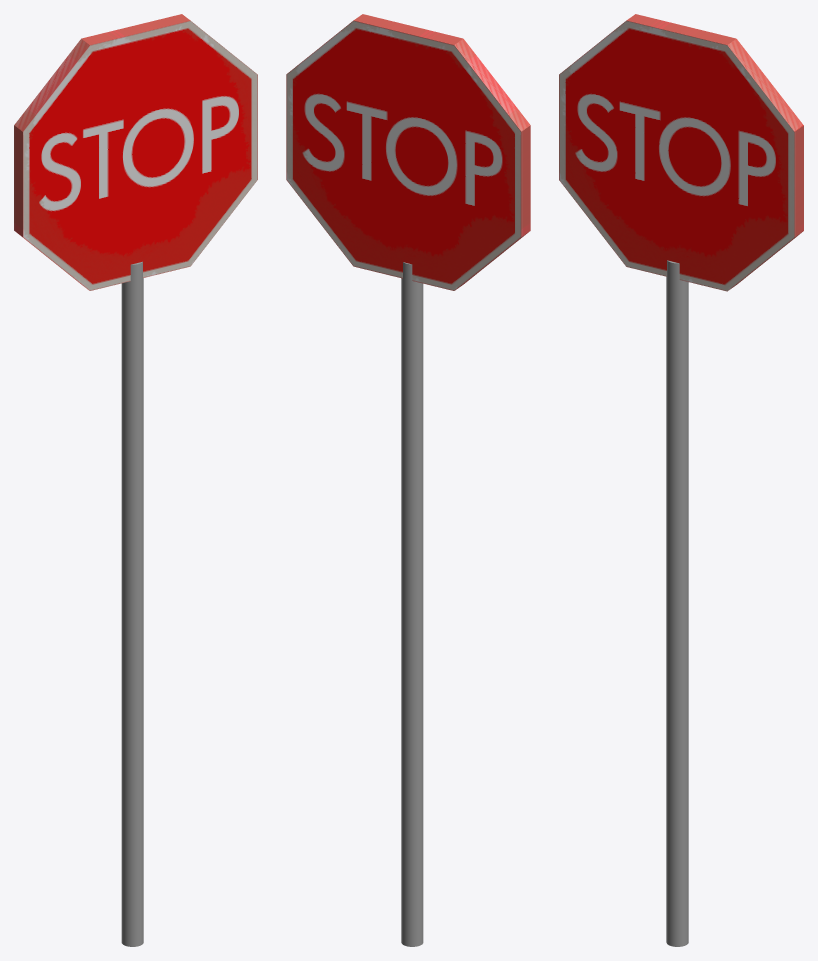
The model's file is stopsign.fbx.
3 views of the same model, side by side, from view 1: azimuth 30°, elevation 25°; view 2: azimuth 150°, elevation 25°; view 3: azimuth 330°, elevation 25° (orthographic).
Parts seen in each view (by area): view 1: stop_sign, pCylinder1; view 2: stop_sign, pCylinder1; view 3: stop_sign, pCylinder1.
Part boxes in pixels (x1=…): stop_sign: x1=14, y1=14, x2=257, y2=290; pCylinder1: x1=121, y1=261, x2=143, y2=946; stop_sign: x1=286, y1=14, x2=530, y2=290; pCylinder1: x1=401, y1=262, x2=423, y2=946; stop_sign: x1=559, y1=14, x2=803, y2=291; pCylinder1: x1=666, y1=260, x2=688, y2=946.
Bounding box in the file's own units: 4.19 × 15.5 × 0.3431.
